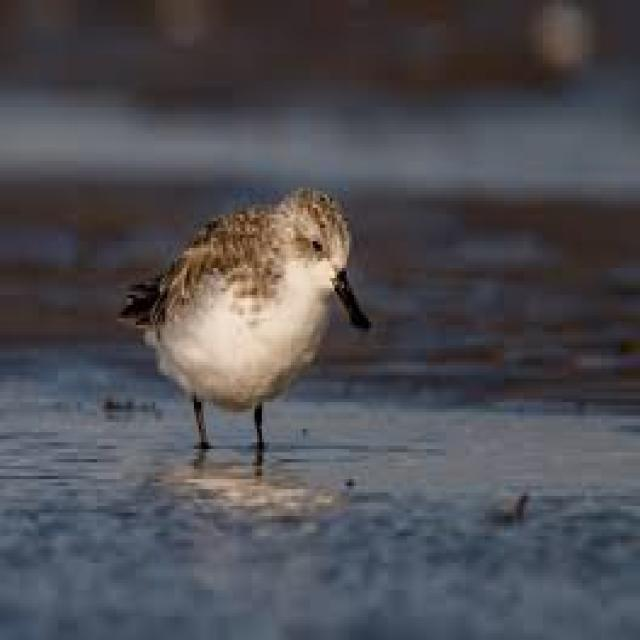Sandpiper: (128, 180, 374, 447)
